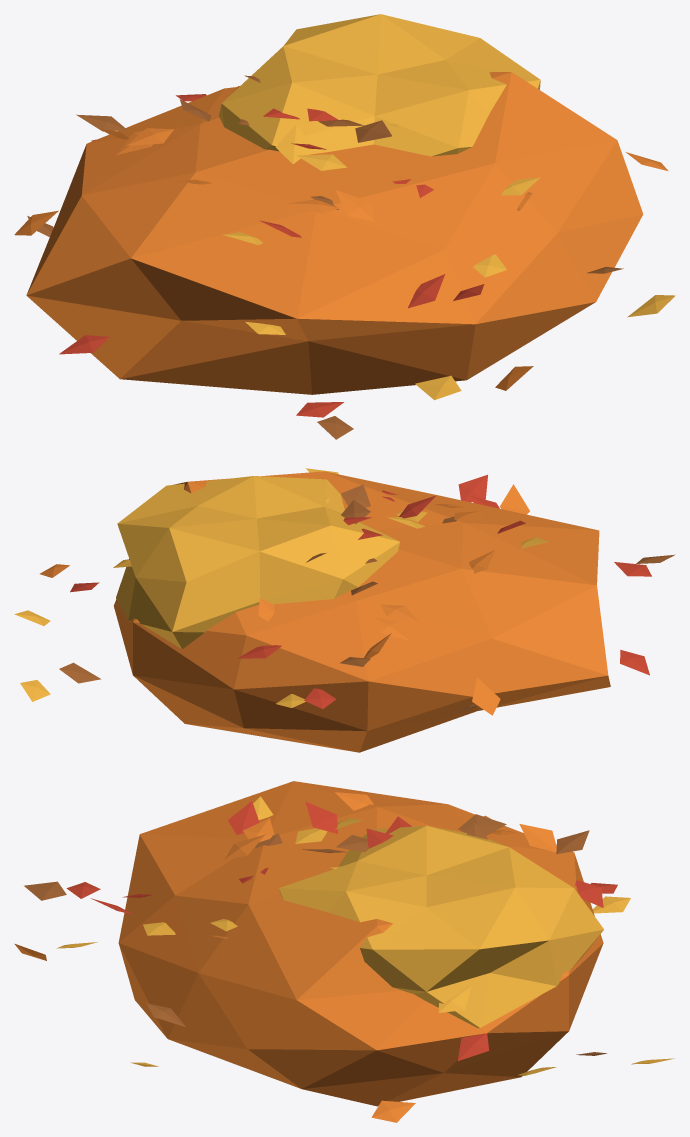
File: monton_hojas.glb
3 views of the same model, one above another, from view 1: azimuth 30°, elevation 25°; view 2: azimuth 150°, elevation 25°; view 3: azimuth 270°, elevation 25° (orthographic). The views are drawn at different scales.
Parts seen in each view (by area): view 1: monton_hojas_otono_naranja, monton_hojas_otono_amarillo, monton_hojas_otono_rojo, monton_hojas_otono_marron; view 2: monton_hojas_otono_naranja, monton_hojas_otono_amarillo, monton_hojas_otono_rojo, monton_hojas_otono_marron; view 3: monton_hojas_otono_naranja, monton_hojas_otono_amarillo, monton_hojas_otono_rojo, monton_hojas_otono_marron.
Boxes of the visible parts, bbox=[...] form: monton_hojas_otono_naranja: bbox=[14, 72, 668, 394]; monton_hojas_otono_amarillo: bbox=[115, 14, 675, 400]; monton_hojas_otono_rojo: bbox=[59, 94, 484, 417]; monton_hojas_otono_marron: bbox=[27, 75, 623, 439]; monton_hojas_otono_naranja: bbox=[40, 471, 610, 752]; monton_hojas_otono_amarillo: bbox=[14, 468, 548, 707]; monton_hojas_otono_rojo: bbox=[70, 474, 651, 708]; monton_hojas_otono_marron: bbox=[59, 484, 675, 710]; monton_hojas_otono_naranja: bbox=[14, 781, 603, 1122]; monton_hojas_otono_amarillo: bbox=[56, 796, 675, 1075]; monton_hojas_otono_rojo: bbox=[66, 801, 617, 1060]; monton_hojas_otono_marron: bbox=[24, 814, 607, 1055].
Bounding box in the file's own units: 2.77 × 0.8915 × 2.67.
